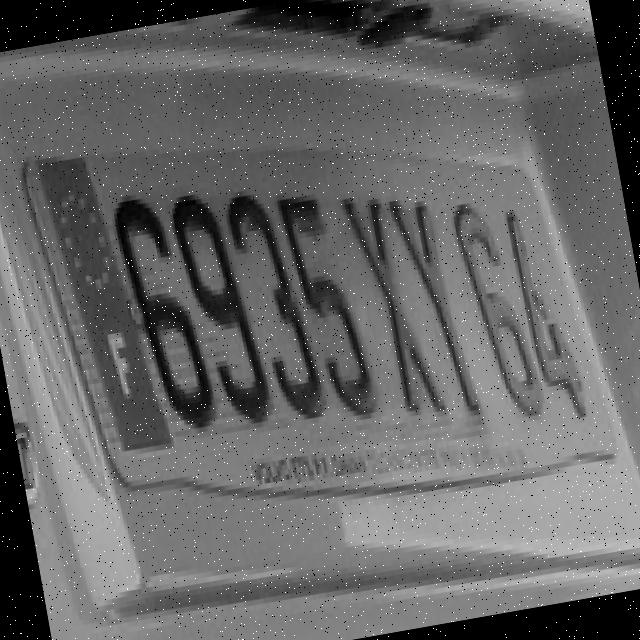EU: (19, 159, 620, 471)
France: (29, 148, 176, 458)
